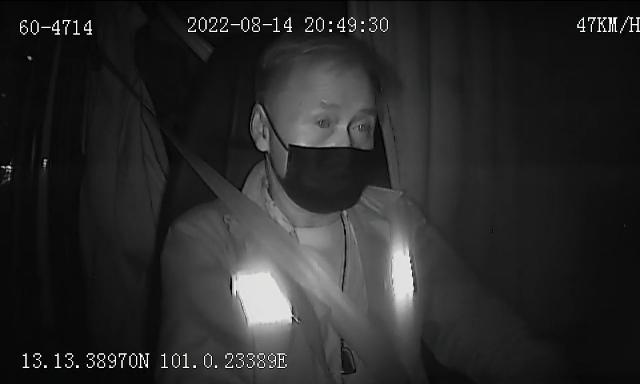SafeDriving: (306, 108, 341, 134), (344, 112, 378, 137)
Seatbelt: (198, 161, 370, 337)
